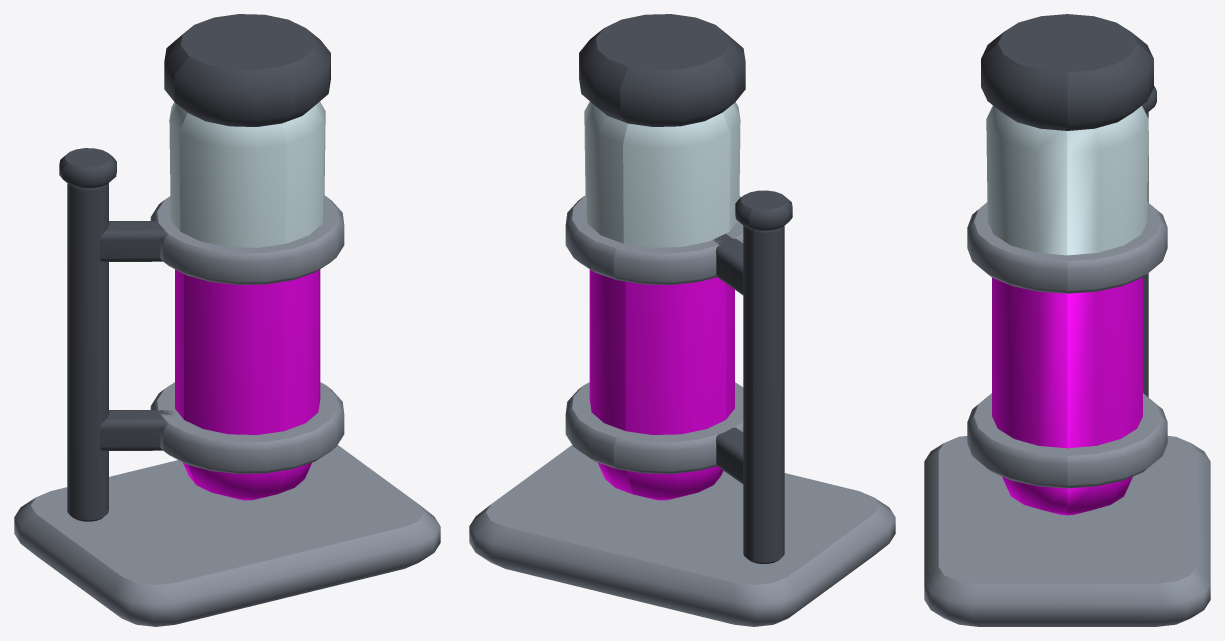
The model's file is objet_science_3.glb.
3 renders of one model, left to right at view 1: azimuth 30°, elevation 25°; view 2: azimuth 150°, elevation 25°; view 3: azimuth 270°, elevation 25°, orthographic. The views are drawn at different scales.
Parts seen in each view (by area): view 1: science_metal_sci.002, science_metal_sci_sombre.002, science_teinte.002, science_verre_flacon.002; view 2: science_metal_sci.002, science_metal_sci_sombre.002, science_teinte.002, science_verre_flacon.002; view 3: science_metal_sci.002, science_teinte.002, science_verre_flacon.002, science_metal_sci_sombre.002.
Part boxes in pixels (bbox=[...]): science_metal_sci.002: bbox=[14, 195, 440, 626]; science_metal_sci_sombre.002: bbox=[59, 14, 330, 521]; science_teinte.002: bbox=[175, 269, 320, 500]; science_verre_flacon.002: bbox=[169, 101, 325, 247]; science_metal_sci.002: bbox=[469, 195, 895, 626]; science_metal_sci_sombre.002: bbox=[579, 14, 792, 563]; science_teinte.002: bbox=[589, 269, 734, 500]; science_verre_flacon.002: bbox=[584, 101, 740, 247]; science_metal_sci.002: bbox=[924, 202, 1210, 626]; science_teinte.002: bbox=[992, 277, 1142, 515]; science_verre_flacon.002: bbox=[986, 105, 1148, 255]; science_metal_sci_sombre.002: bbox=[981, 14, 1156, 397].
Bounding box in the file's own units: 0.16 × 0.24 × 0.12.
